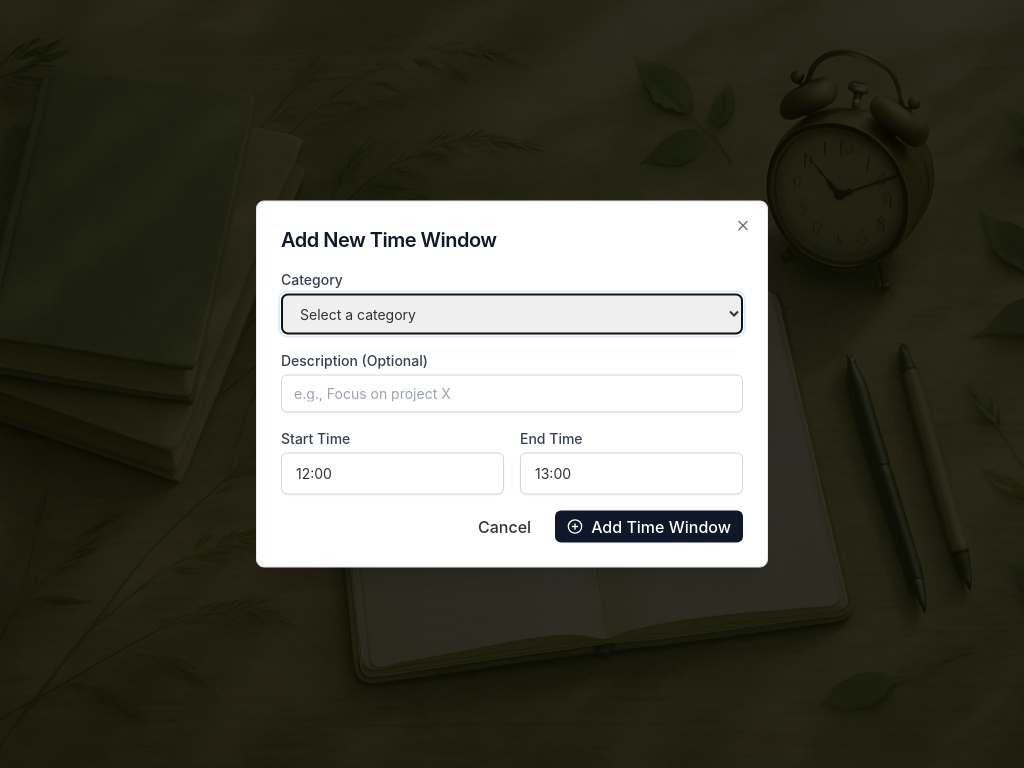
Test: TimeWindowModal › Create Mode › shows validation error for overlapping time windows
Replace the text in the field labelled "Start Time" with "09:30". click: (392, 474)
box: [281,452,504,494]
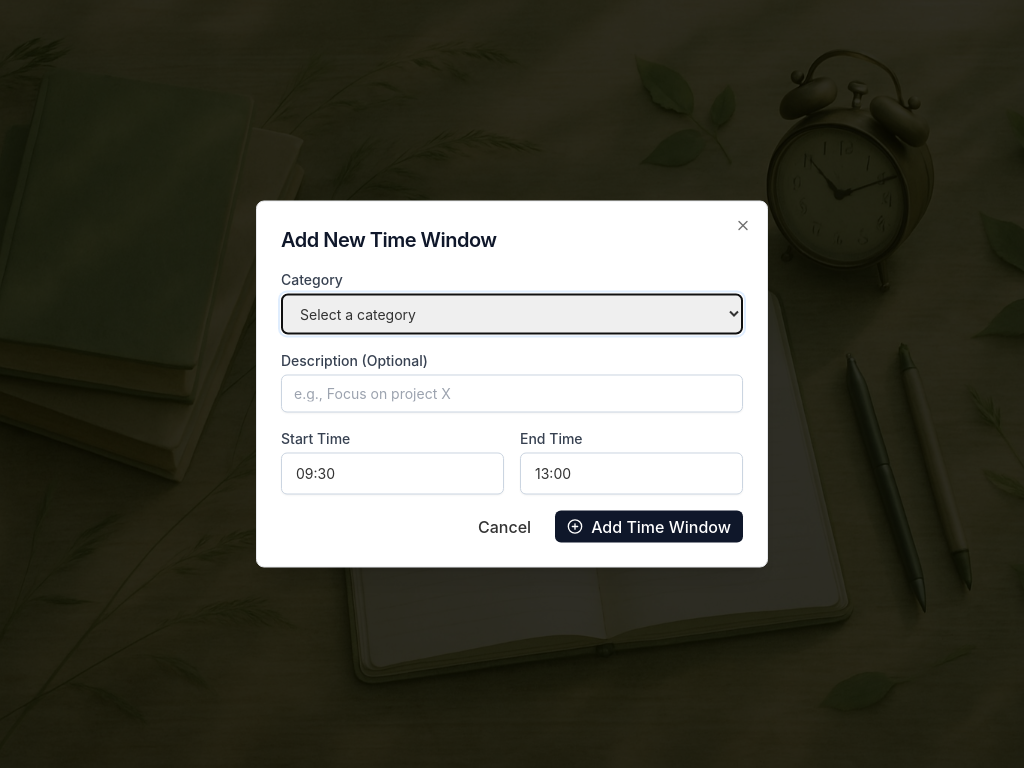
Replace the text in the field labelled "End Time" with "10:30". click: (632, 474)
box: [520,452,743,494]
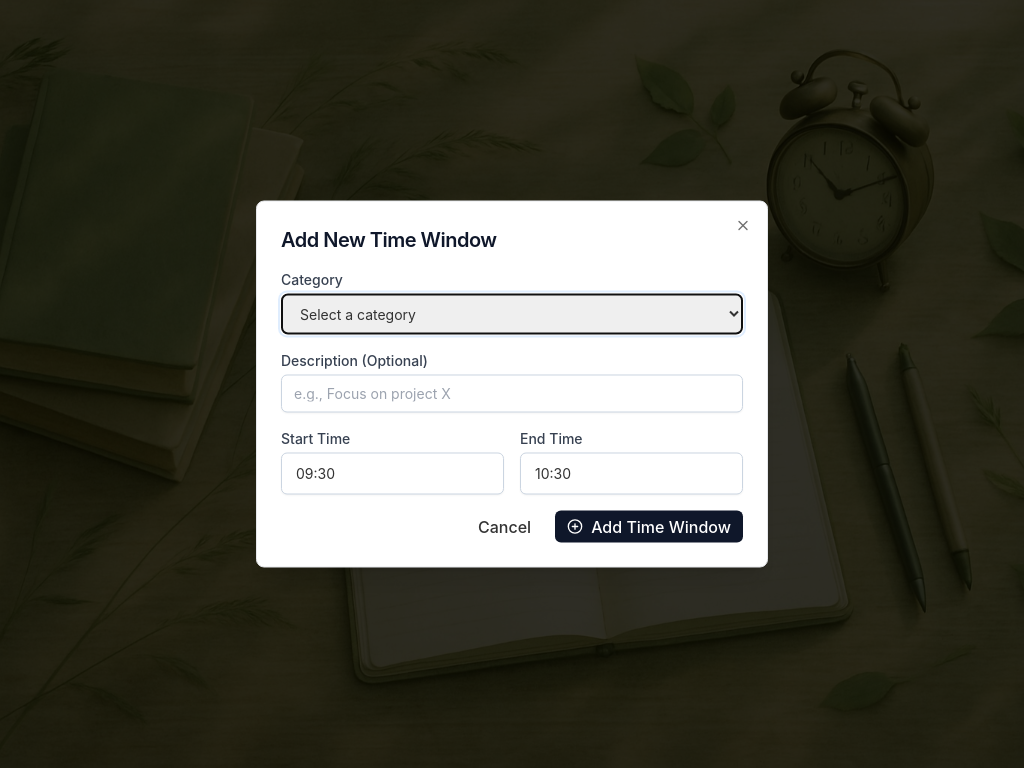
Click the button "Add Time Window". click: click(649, 526)
box: [555,510,743,542]
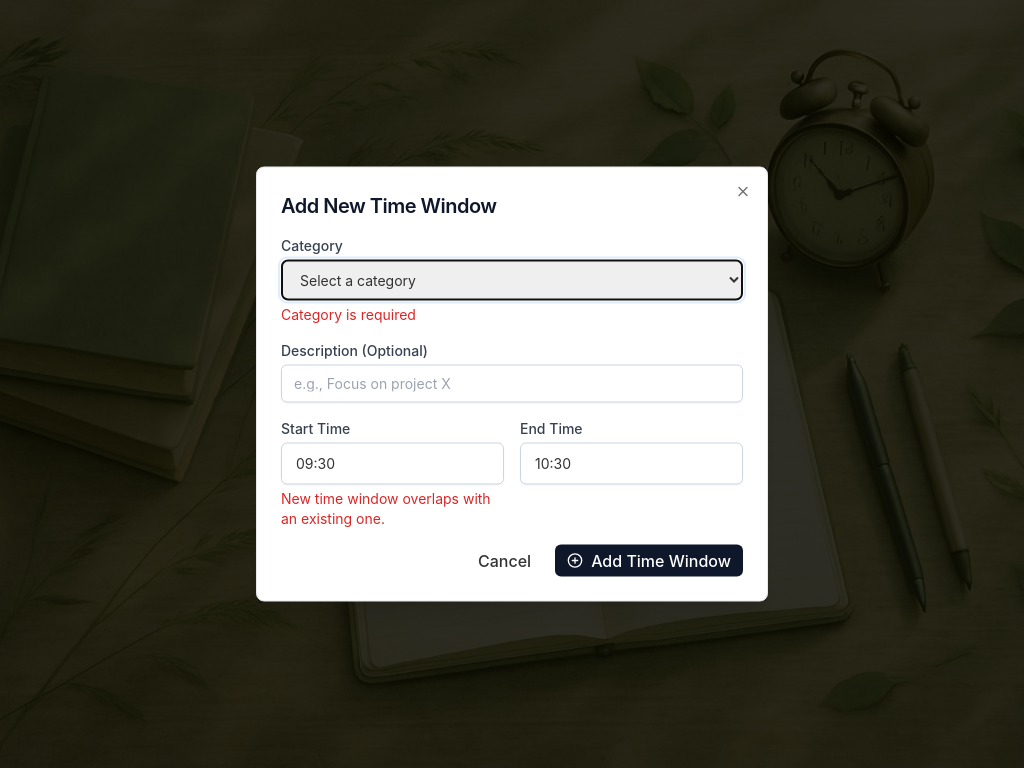
Now the text "New time window overlaps with an existing one." is shown, box [281,488,504,528]
